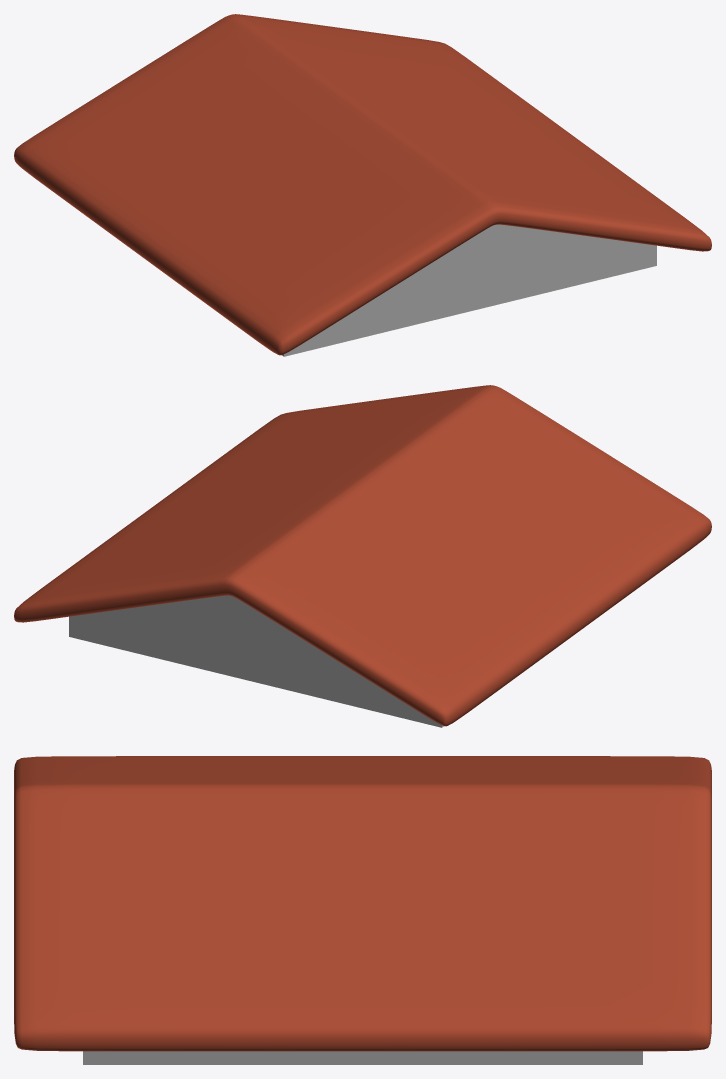
Rendered from Roof.fbx.
3 views of the same model, one above another, from view 1: azimuth 30°, elevation 25°; view 2: azimuth 150°, elevation 25°; view 3: azimuth 270°, elevation 25° (orthographic). The views are drawn at different scales.
Parts seen in each view (by area): view 1: Roof, Wall.006; view 2: Roof, Wall.006; view 3: Roof, Wall.006.
Part boxes in pixels (left/top/right/bottom): Roof: left=14, top=14, right=711, bottom=355; Wall.006: left=282, top=224, right=656, bottom=356; Roof: left=14, top=385, right=711, bottom=726; Wall.006: left=69, top=595, right=443, bottom=727; Roof: left=14, top=756, right=711, bottom=1051; Wall.006: left=83, top=1051, right=642, bottom=1064.
Size of the model in its own units: 584 by 158 by 624.
